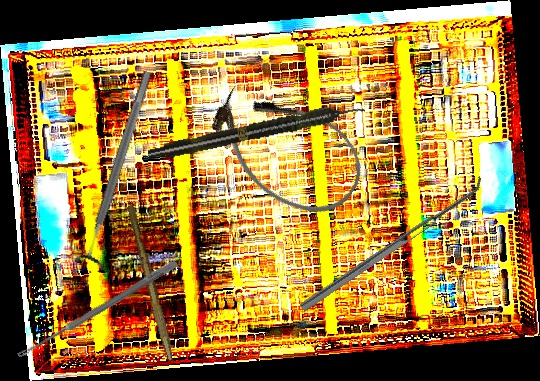Cannula: (194, 66, 379, 233)
Fixation Ring: (73, 67, 164, 271)
Handpiece: (146, 99, 367, 164)
Scalpel Handle: (123, 204, 179, 362)
Spatula Surgical: (294, 173, 488, 312)
Surgical Spoon: (16, 258, 179, 361)
